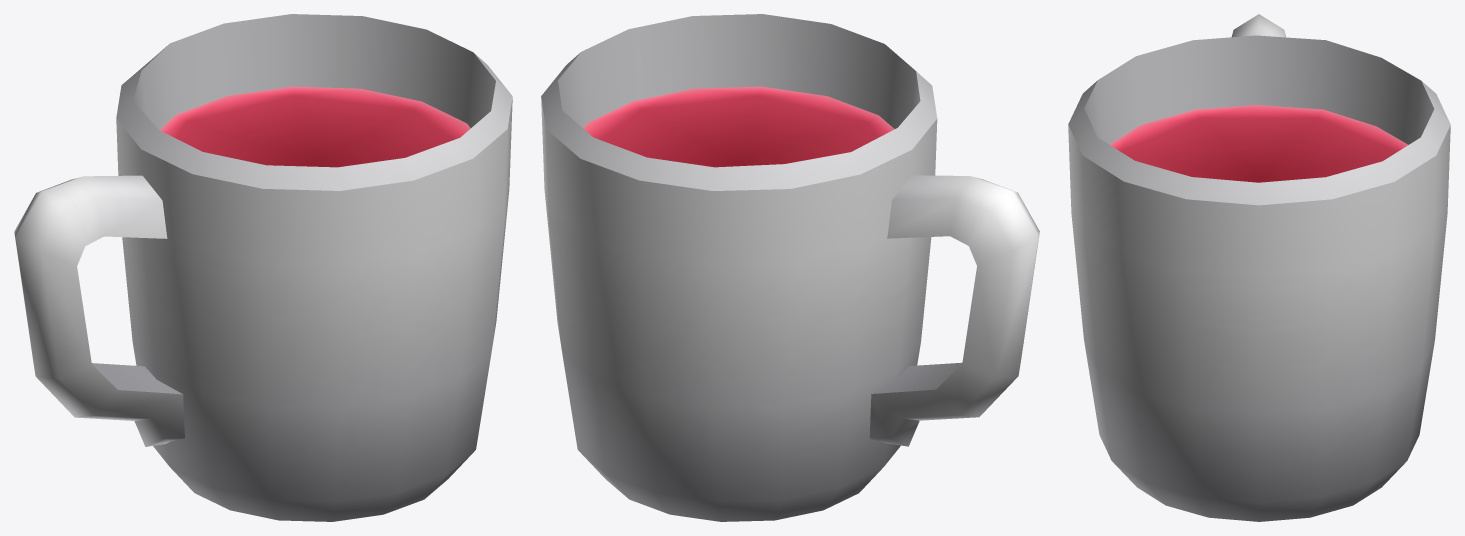
File: m_Mug01_Tea05.fbx
3 renders of one model, left to right at view 1: azimuth 30°, elevation 25°; view 2: azimuth 150°, elevation 25°; view 3: azimuth 270°, elevation 25°, orthographic. The views are drawn at different scales.
Visible parts, largest first — view 1: m_Mug01_Tea05; view 2: m_Mug01_Tea05; view 3: m_Mug01_Tea05.
Part boxes in pixels (left/top/right/bottom): m_Mug01_Tea05: left=14, top=14, right=512, bottom=521; m_Mug01_Tea05: left=541, top=14, right=1039, bottom=521; m_Mug01_Tea05: left=1068, top=14, right=1450, bottom=521.
Bounding box in the file's own units: 15.22 × 11.5 × 11.16.
